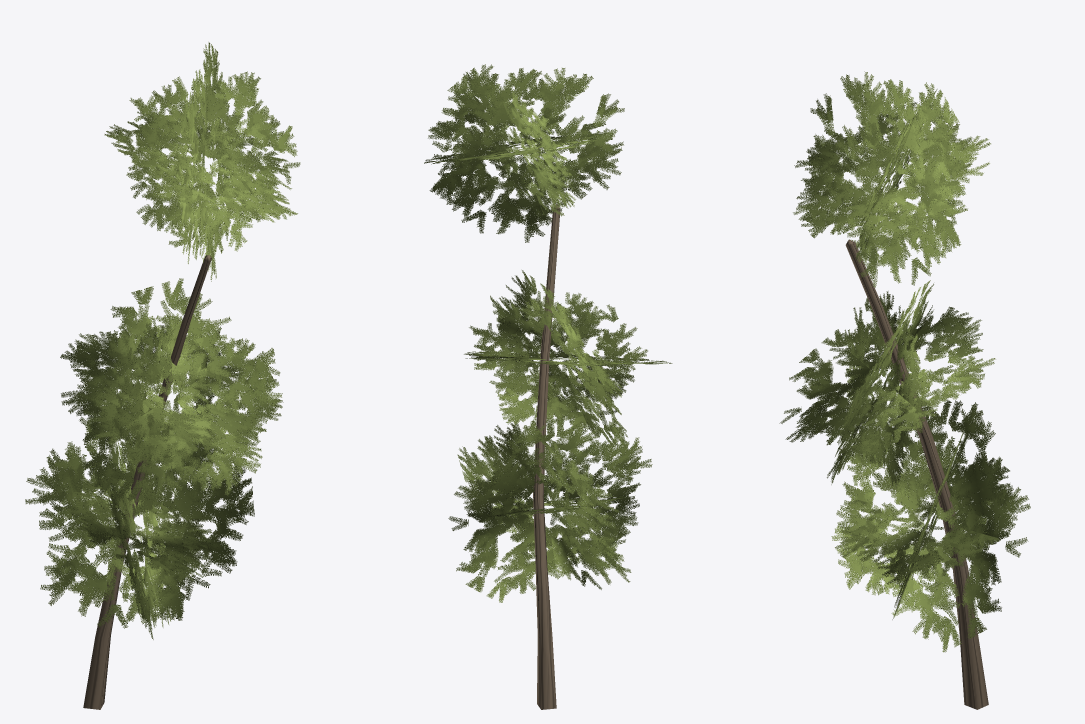
Rendered from seedling-c.lod0.glb.
The picture shows the model from 3 angles, left to right: view 1: azimuth 30°, elevation 25°; view 2: azimuth 150°, elevation 25°; view 3: azimuth 270°, elevation 25°; orthographic projection. The views are drawn at different scales.
Parts seen in each view (by area): view 1: foliage, bark; view 2: foliage, bark; view 3: foliage, bark.
Part boxes in pixels (box(x1,y1,x2,y2)): foliage: box(25, 42, 300, 639); bark: box(83, 255, 211, 709); foliage: box(424, 64, 672, 602); bark: box(533, 204, 560, 709); foliage: box(779, 71, 1030, 652); bark: box(845, 239, 988, 709).
Bounding box in the file's own units: 0.1552 × 0.35 × 0.1528.
Materials: 2 (2 with a texture image).
